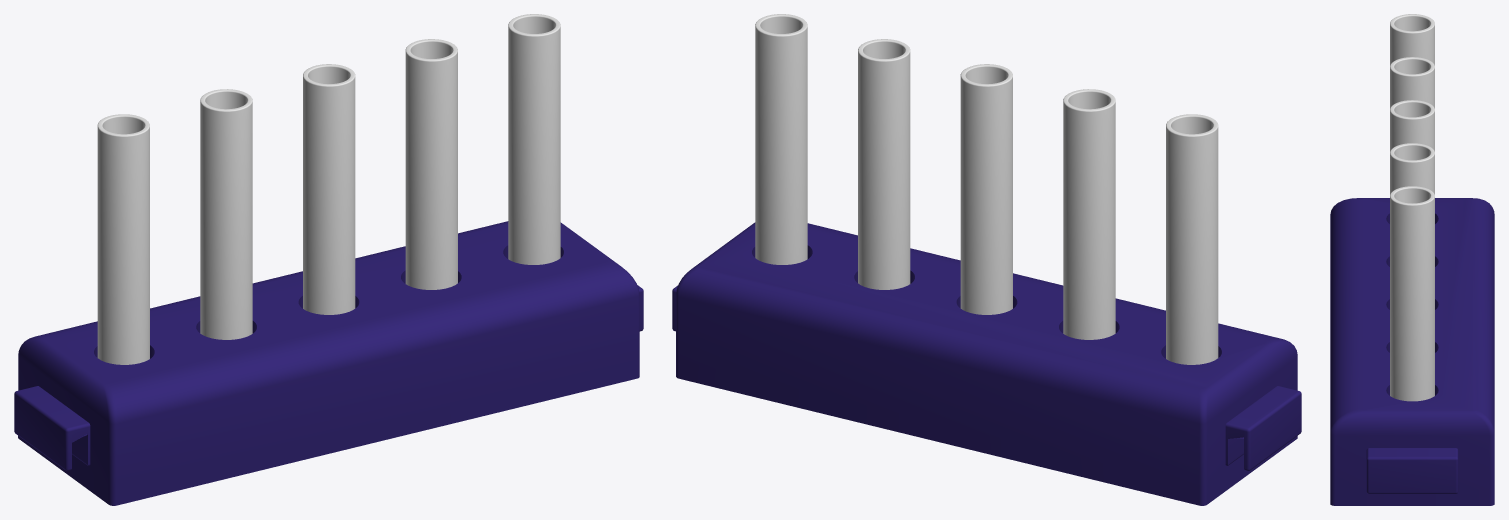
File: test_tube_rack.glb
3 views of the same model, side by side, from view 1: azimuth 30°, elevation 25°; view 2: azimuth 150°, elevation 25°; view 3: azimuth 270°, elevation 25° (orthographic). The views are drawn at different scales.
Parts seen in each view (by area): view 1: Cube_4, Test Tube_3, Cube.002_0; view 2: Cube_4, Test Tube_3, Cube.002_0; view 3: Cube_4, Test Tube_3, Cube.002_0.
Part boxes in pixels (left/top/right/bottom): Cube_4: left=18, top=221, right=639, bottom=505; Test Tube_3: left=97, top=14, right=560, bottom=364; Cube.002_0: left=14, top=285, right=643, bottom=470; Cube_4: left=676, top=222, right=1297, bottom=505; Test Tube_3: left=755, top=14, right=1218, bottom=364; Cube.002_0: left=672, top=285, right=1301, bottom=470; Cube_4: left=1330, top=198, right=1494, bottom=505; Test Tube_3: left=1390, top=14, right=1434, bottom=401; Cube.002_0: left=1366, top=448, right=1458, bottom=493.
Size of the model in its own units: 0.2826 by 0.1552 by 0.081.
Materials: 2 (1 with a texture image).
